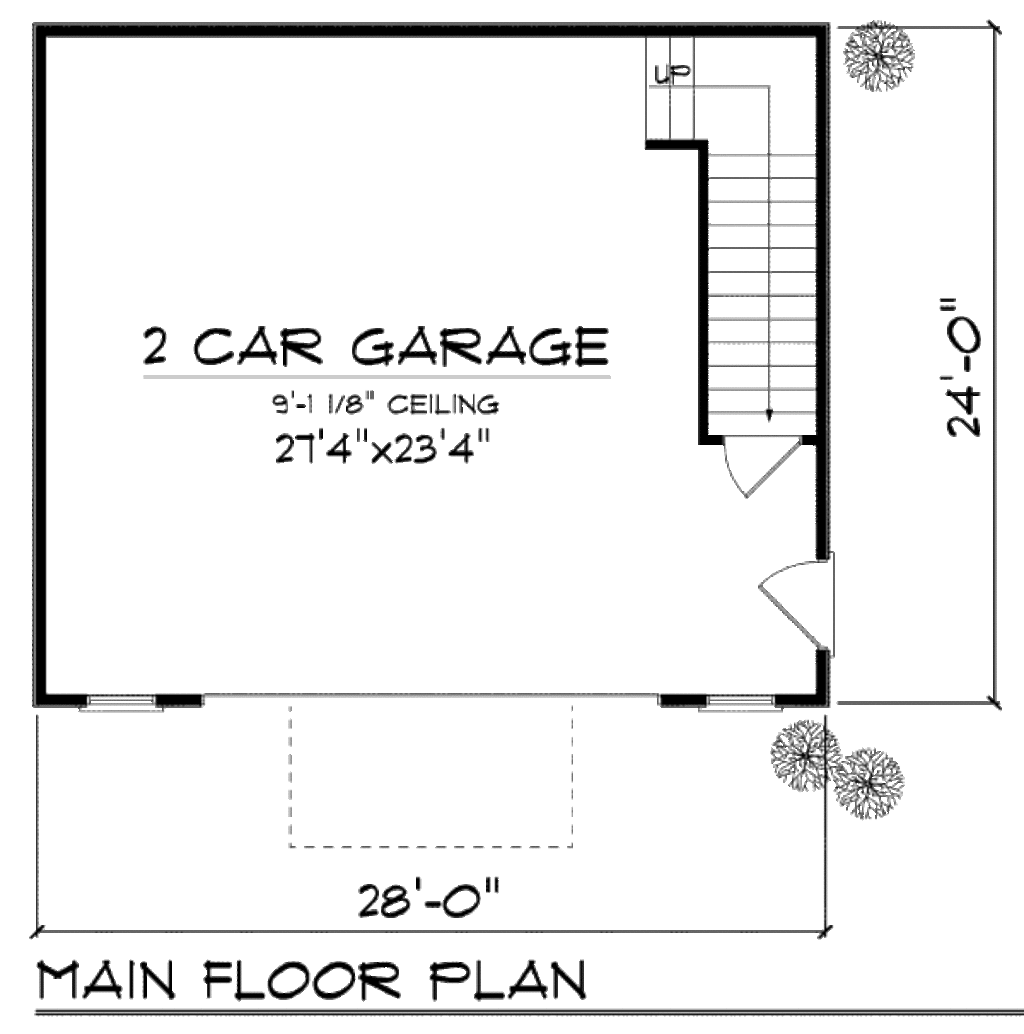door: (763, 560, 844, 652), (723, 438, 803, 499)
stairs: (641, 41, 831, 430)
window: (83, 690, 170, 718), (706, 694, 781, 710)
